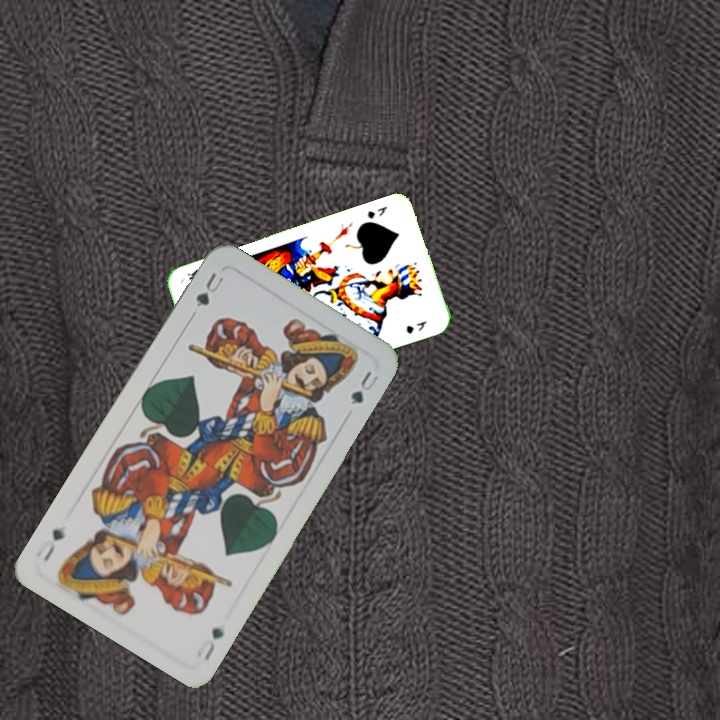GK: (363, 202, 390, 221)
GU: (191, 268, 226, 310), (200, 623, 227, 664)
